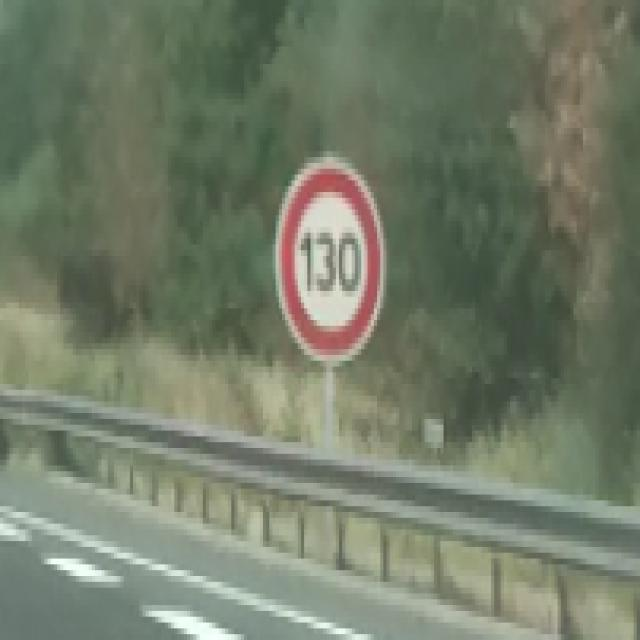speed_130: (271, 154, 386, 366)
